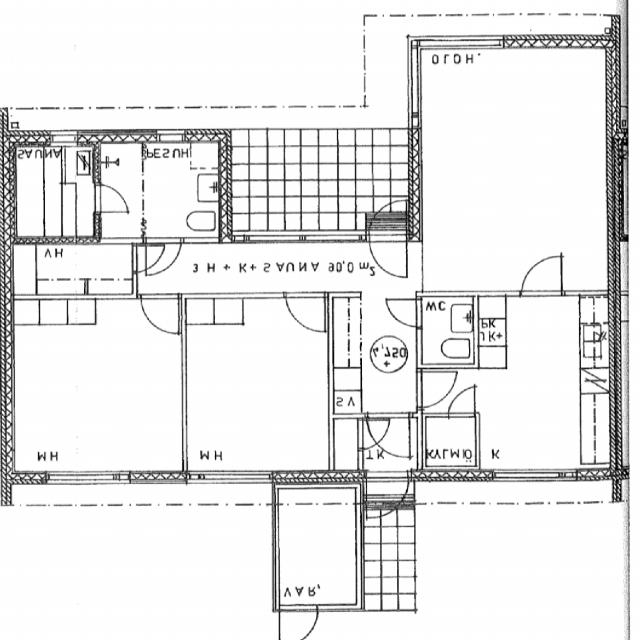door: (366, 467, 409, 521), (366, 192, 406, 244), (366, 230, 406, 281), (369, 413, 411, 457), (520, 252, 561, 296), (140, 292, 178, 334), (415, 372, 459, 408), (288, 292, 324, 334), (282, 603, 320, 640), (147, 238, 181, 276), (358, 420, 394, 450), (93, 183, 129, 212), (133, 245, 166, 273), (387, 300, 421, 327)
